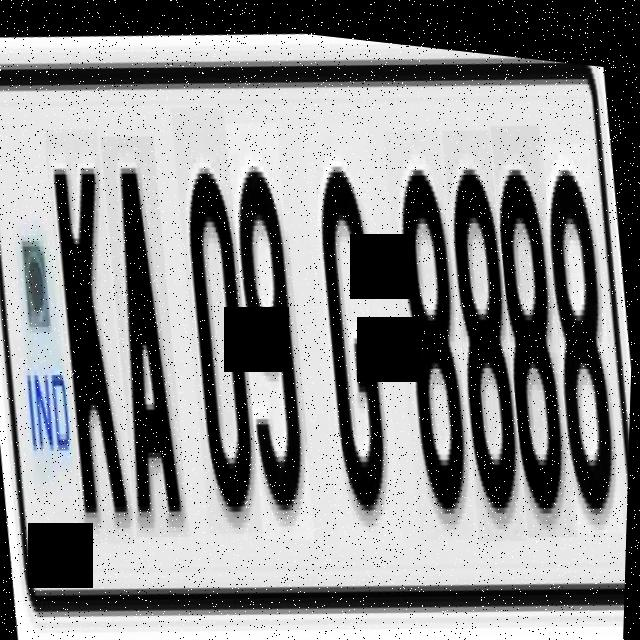0: (176, 103, 263, 527)
8: (388, 121, 478, 528), (444, 119, 529, 528), (491, 115, 574, 524), (545, 131, 623, 519)
9: (228, 116, 314, 532)
A: (106, 133, 192, 532)
G: (306, 113, 401, 538)
K: (46, 127, 135, 540)
